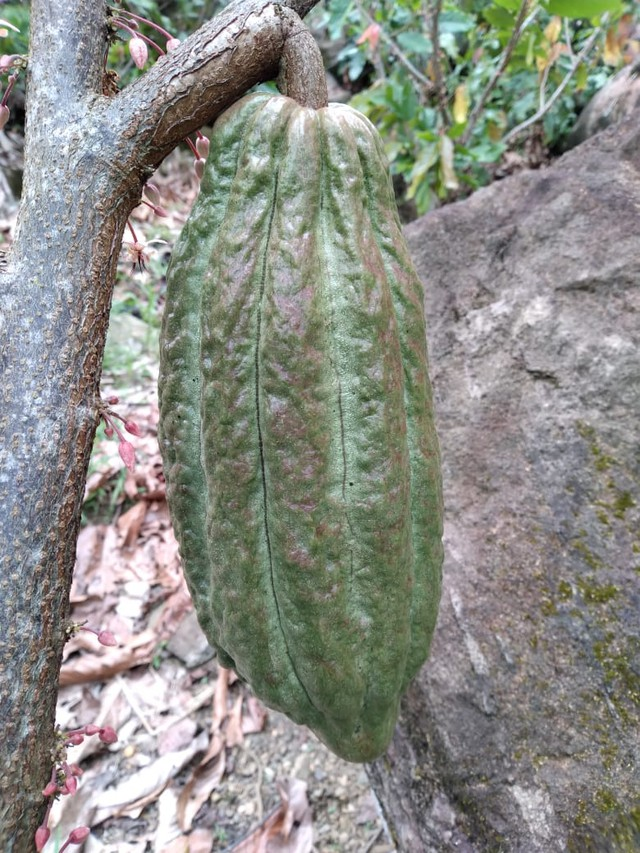Health: (137, 59, 455, 776)
